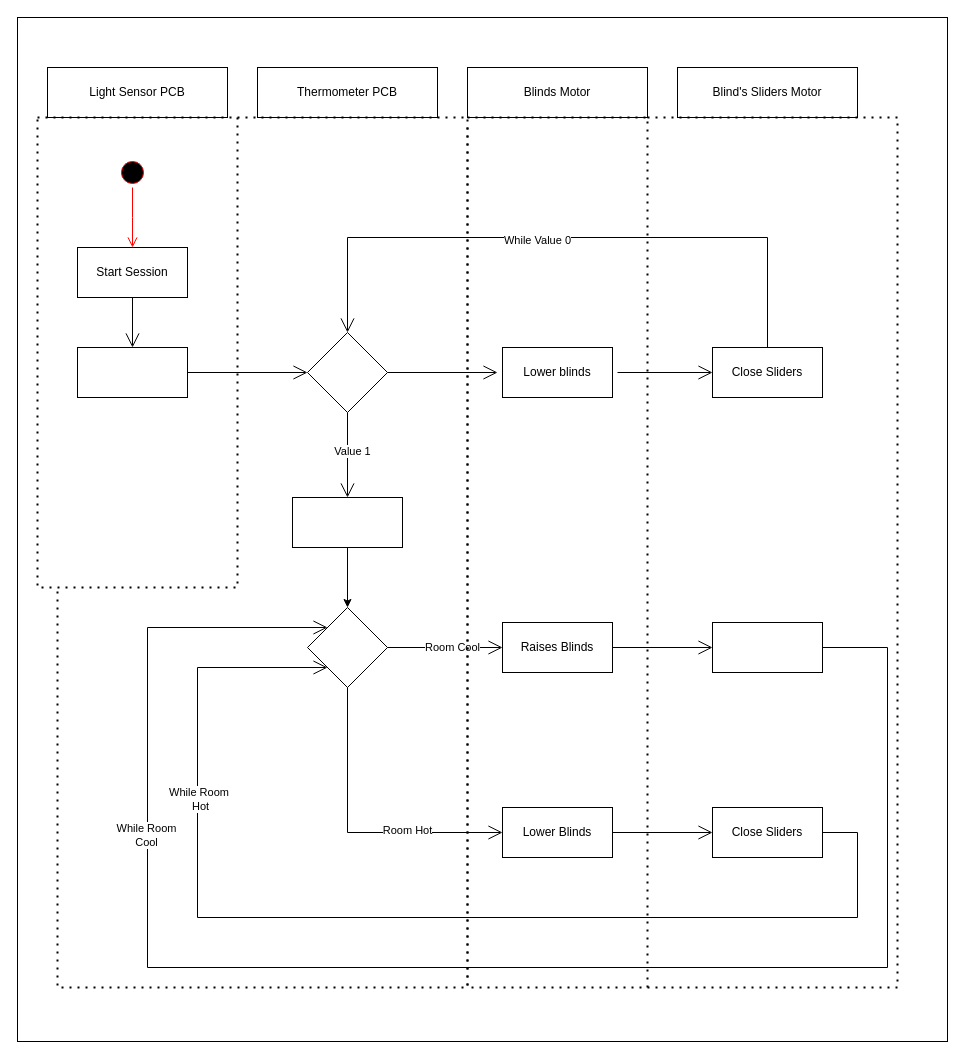
Image size: 965x1059. Some labels were removed from this diagram. Each missing label, with the centre of its shape:
Light Sensor Value: [132,372]
Open Sliders: [767,647]
Thermo Sensor Value: [347,522]
